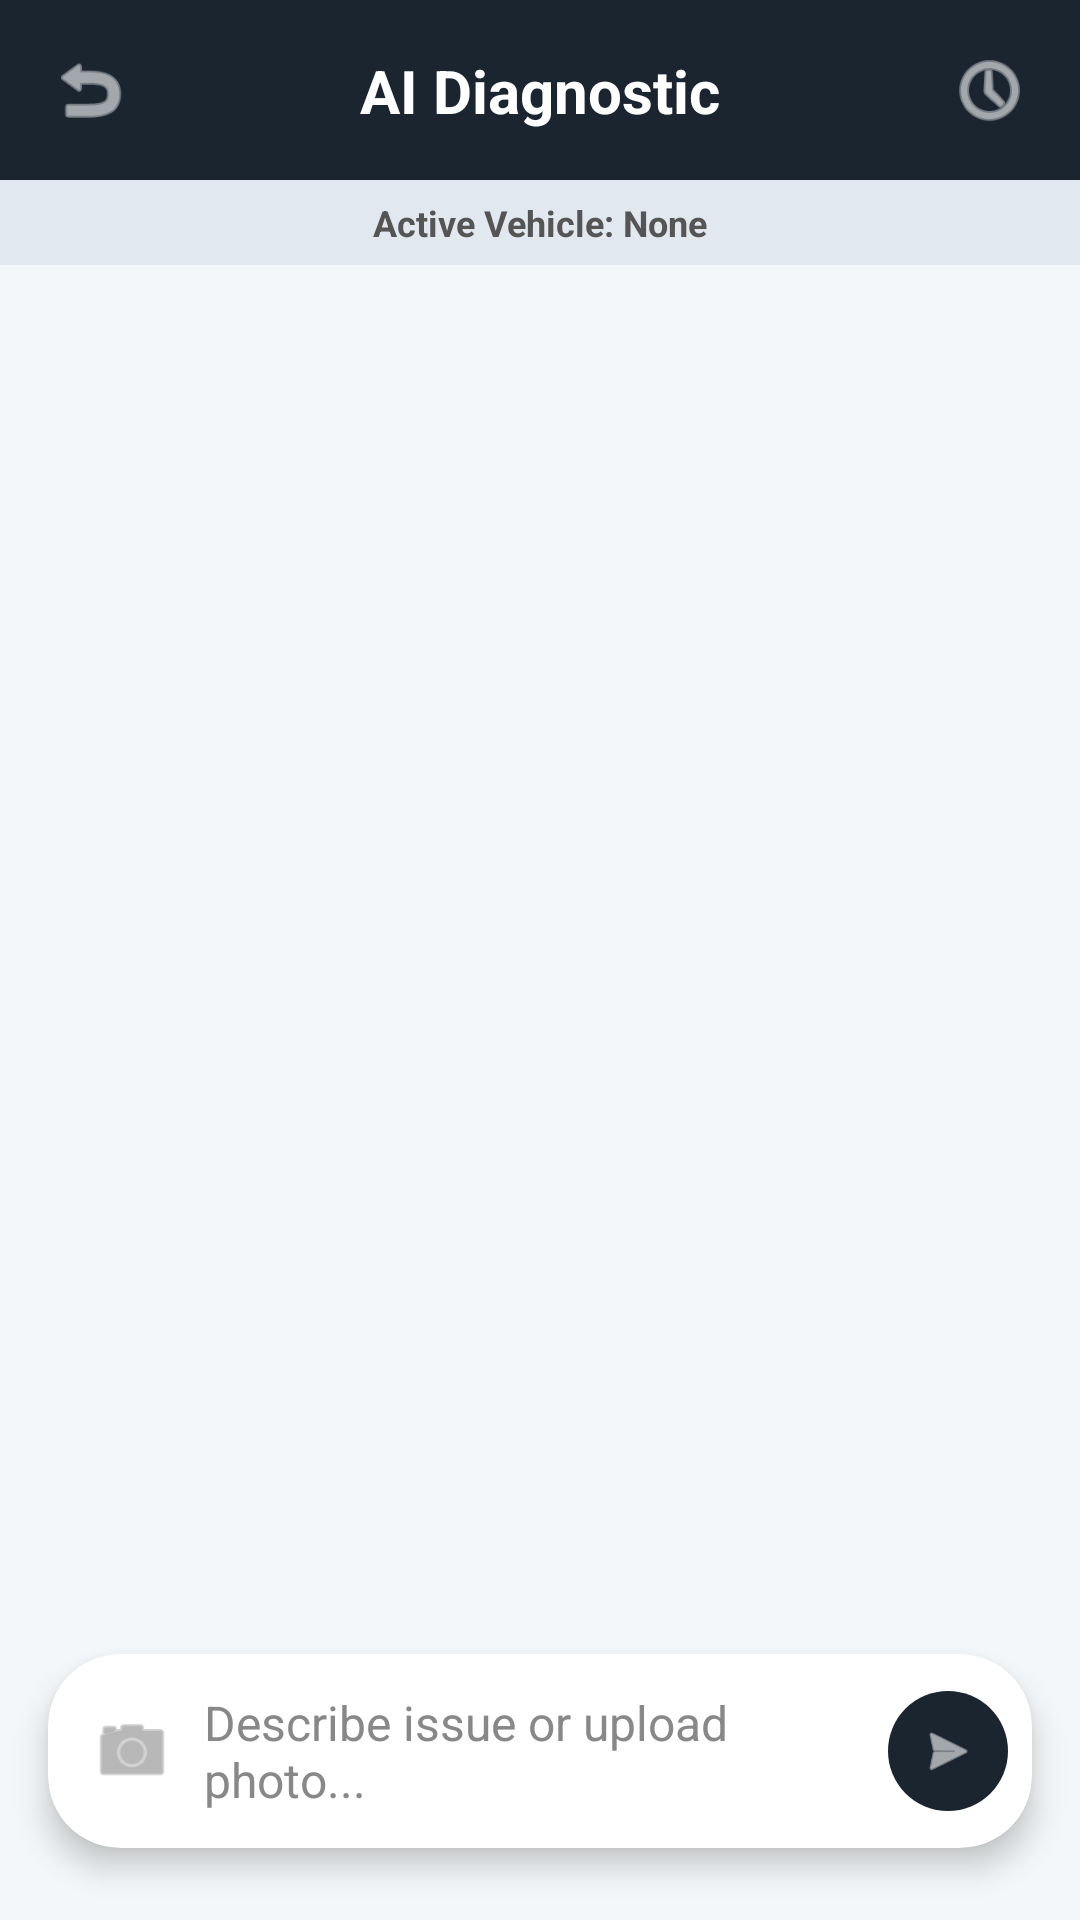

Screen size 1080*1920. Icon name, then its center in pixels as point (x, y):
camera: point (132, 1749)
recent history: point (989, 90)
revert: point (91, 90)
send: point (948, 1751)
